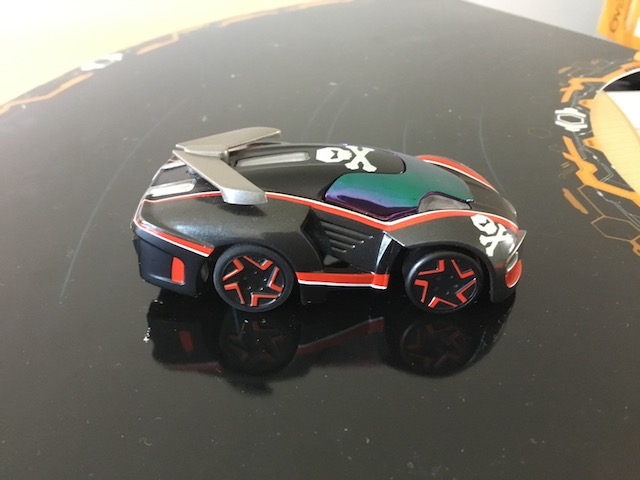car-red: (128, 121, 529, 318)
